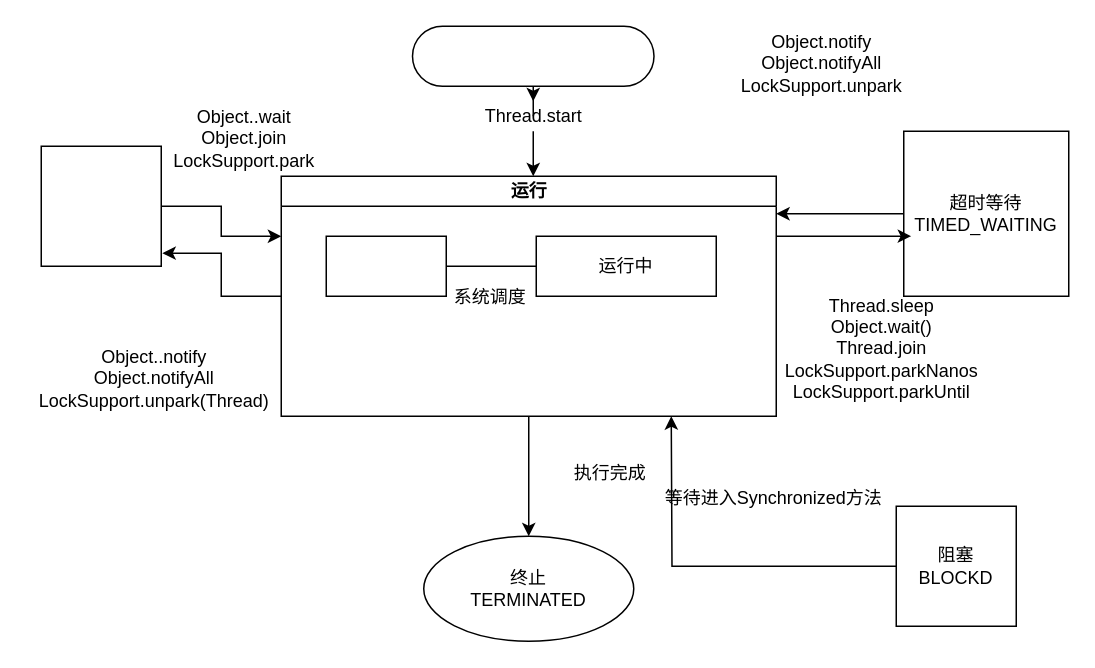
This 1095x668 diagram has some shape labels left out. Here are the shapes that lost their labels. From the top down, the centre of each, then its label:
At (x=532, y=55): "初始化（NEW）".
At (x=100, y=205): "等待 WAITING".
At (x=385, y=265): "就绪".
